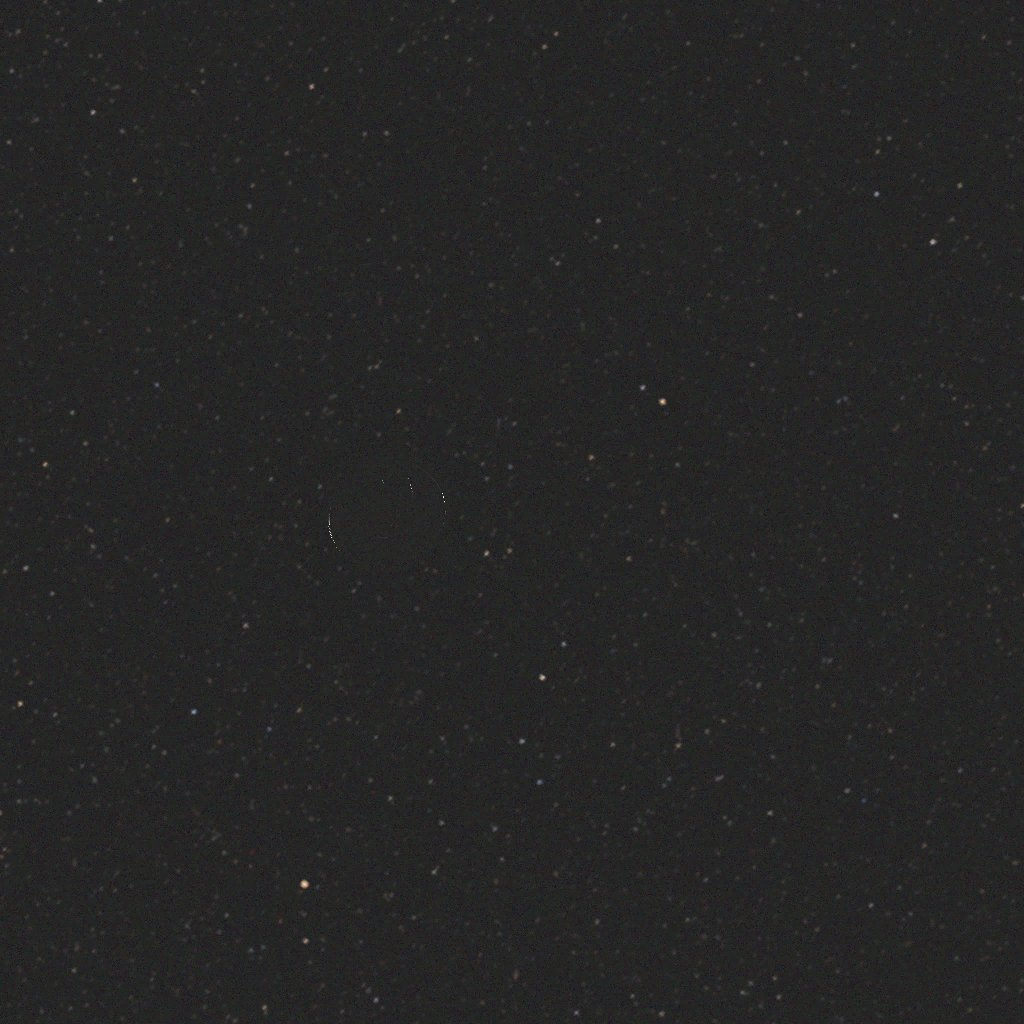debris: (328, 454, 450, 573)
